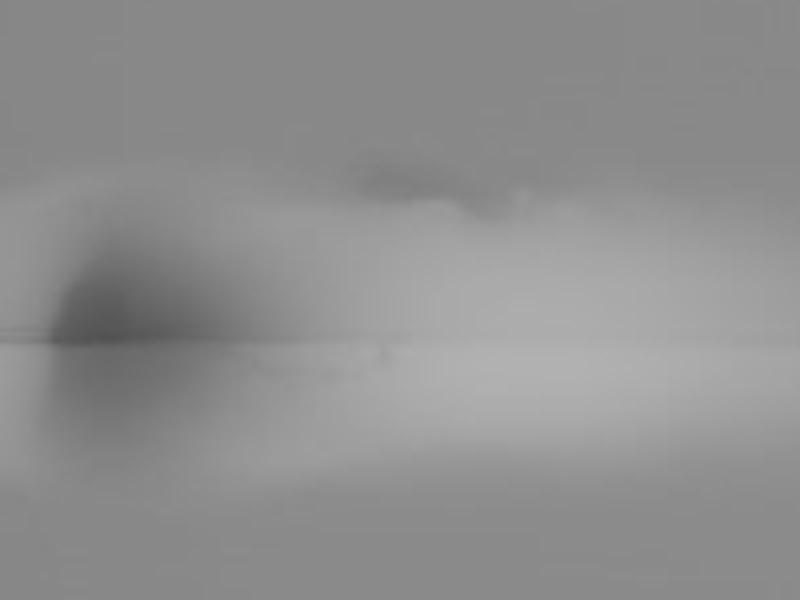defect: (64, 300, 210, 394)
